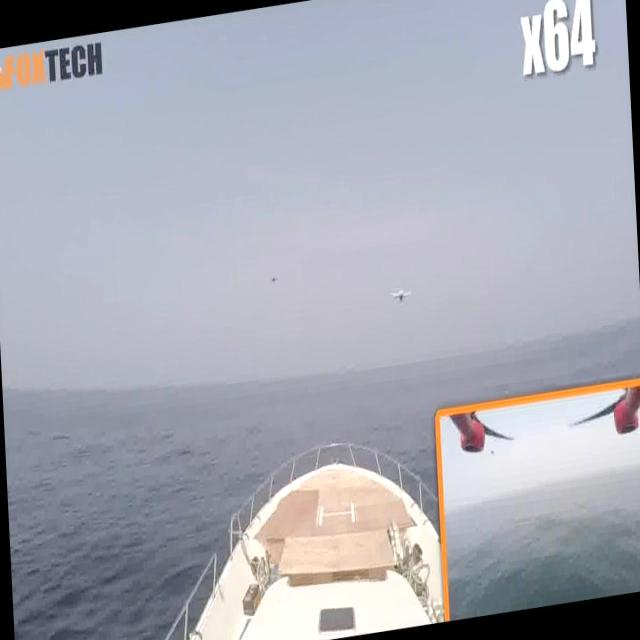drone: (390, 282, 412, 308)
